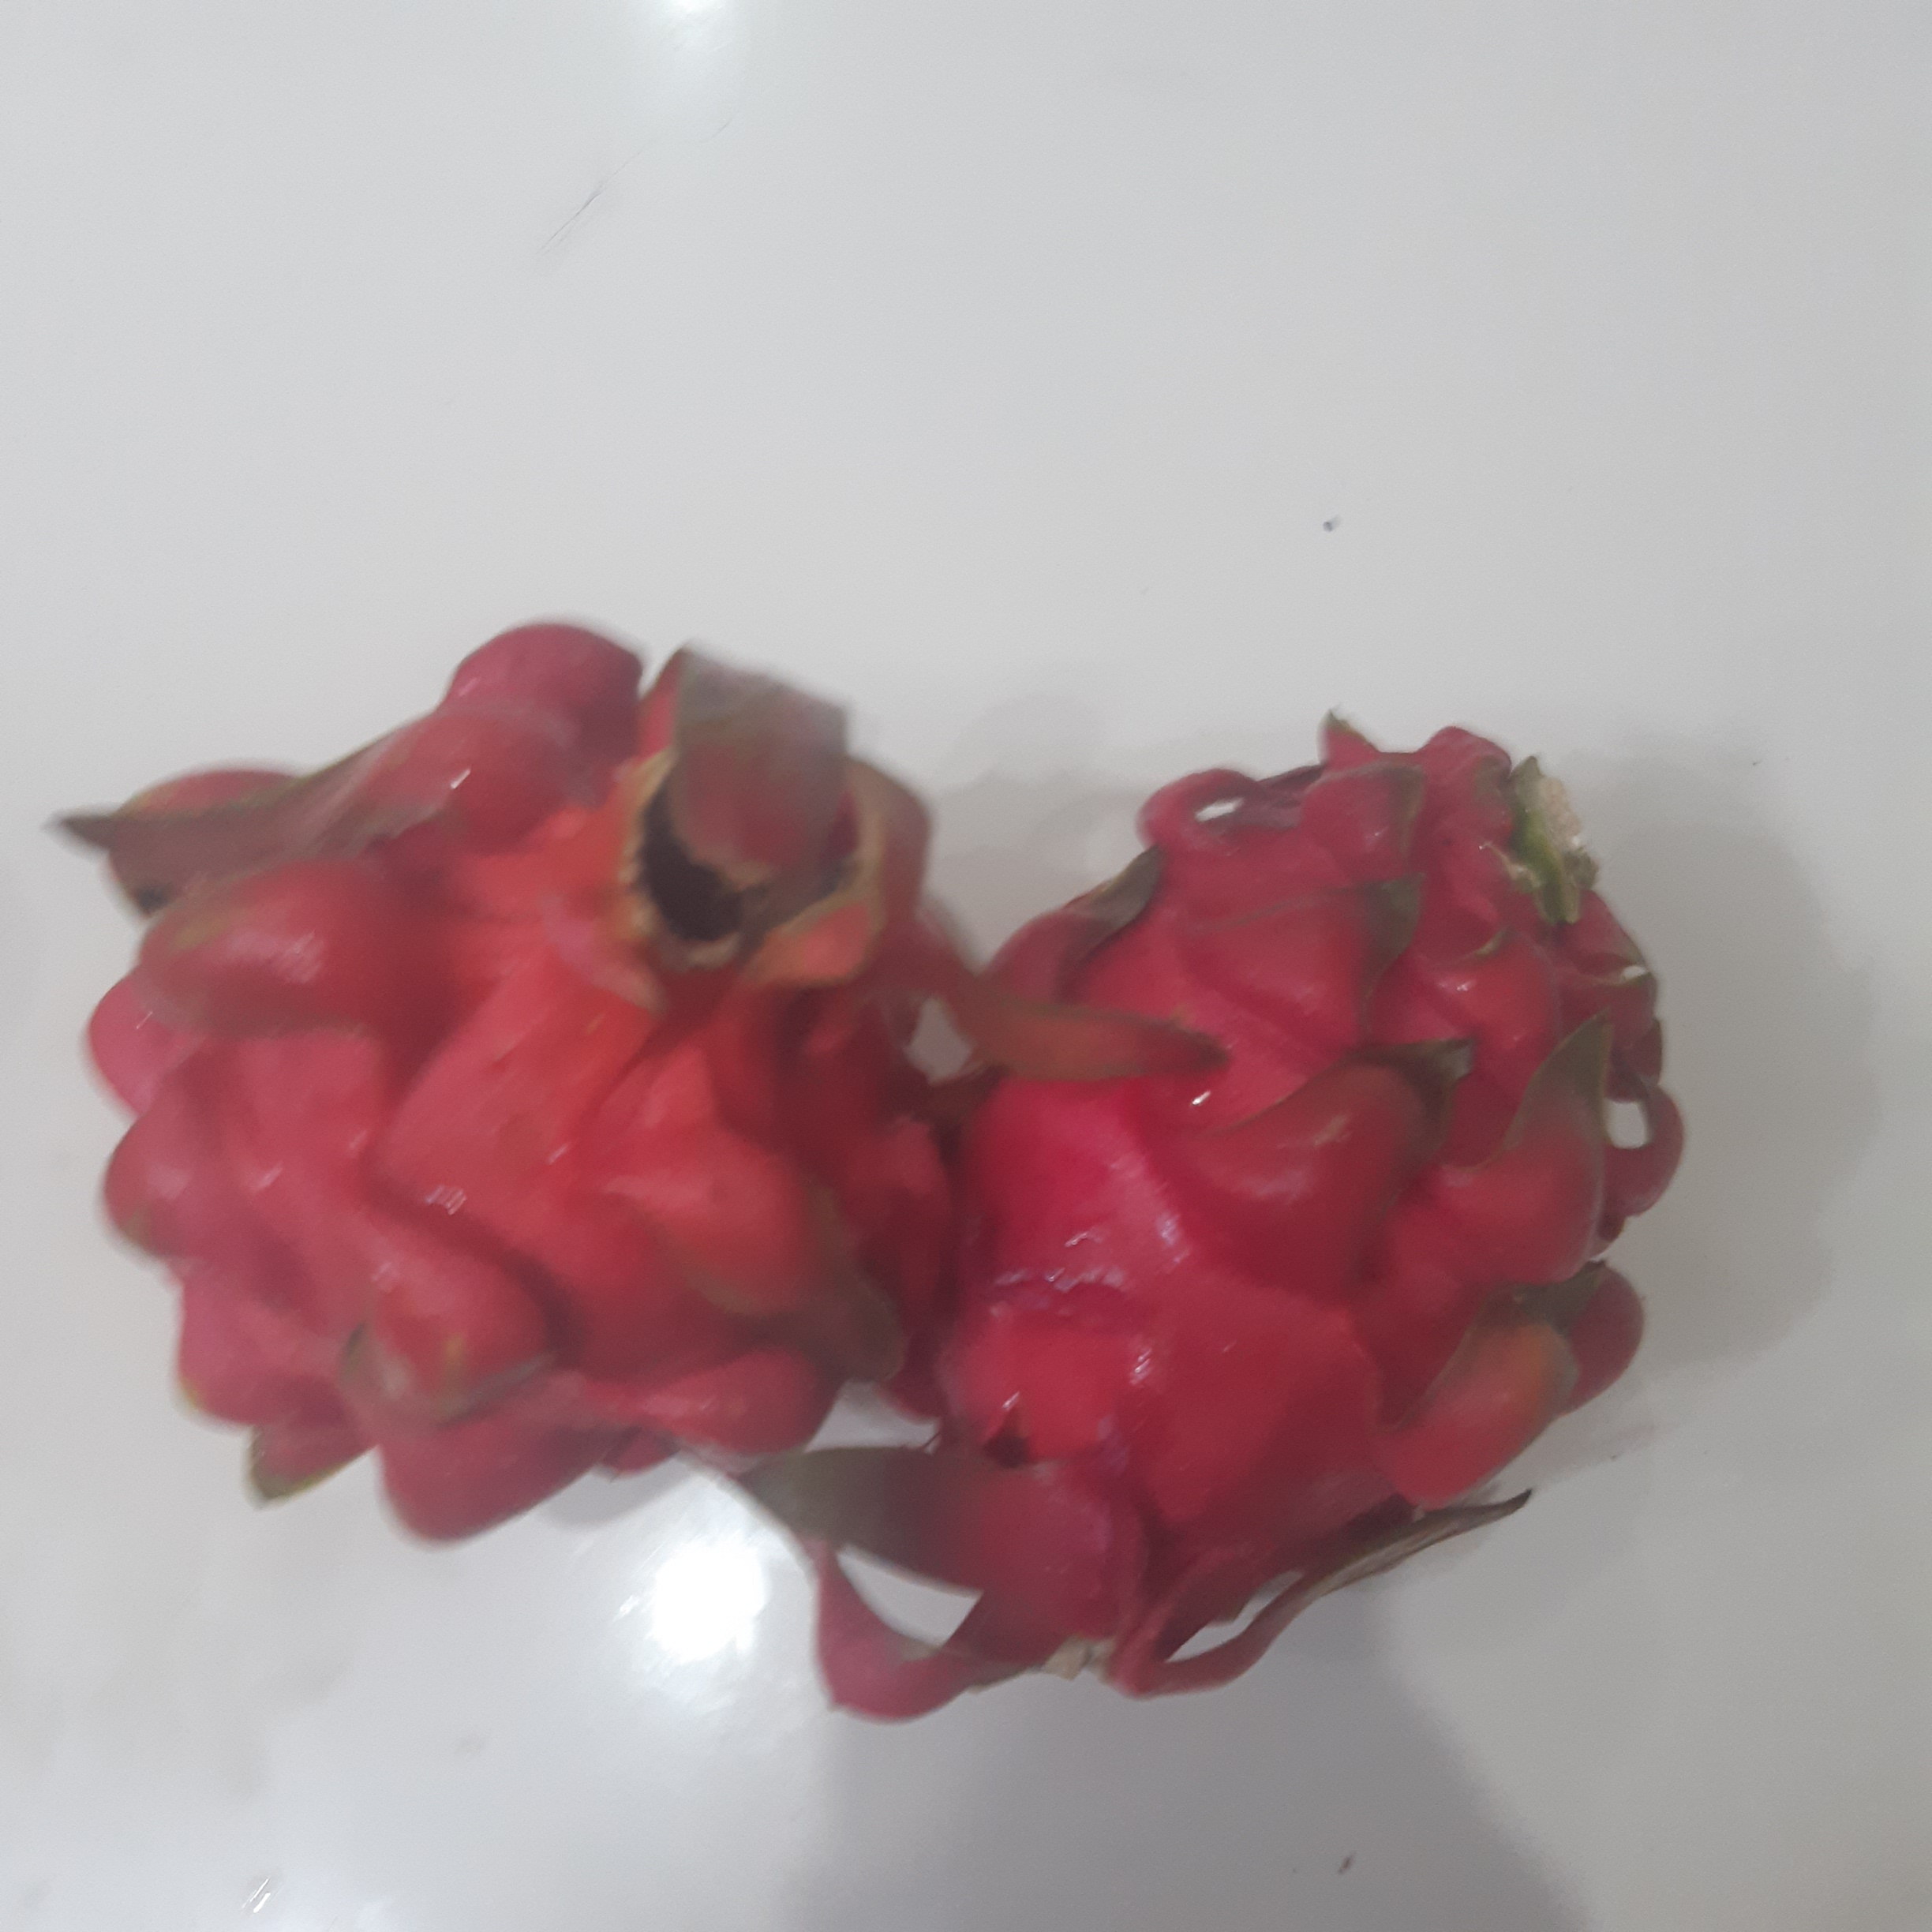Thanh long: (78, 676, 963, 1519), (897, 732, 1683, 1668)
